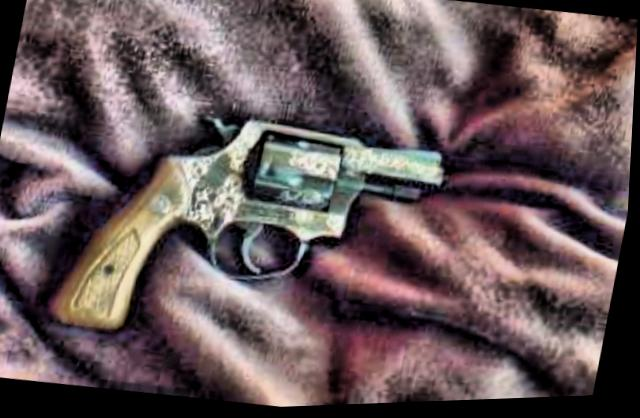pistol: (46, 89, 459, 371)
